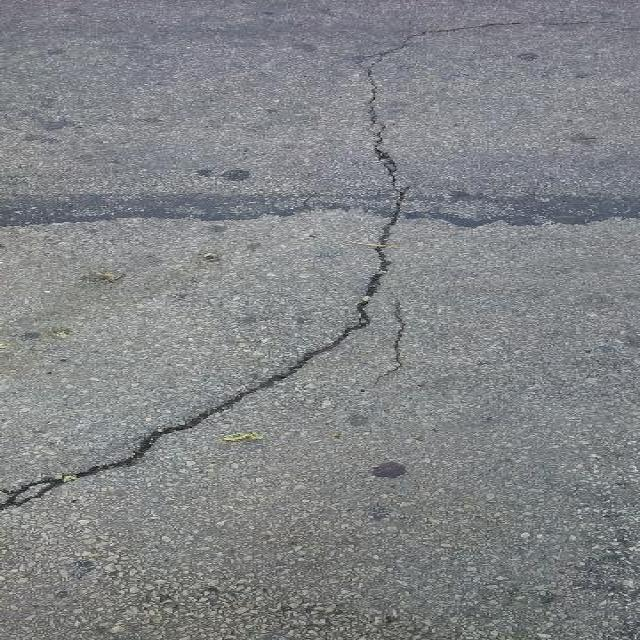Crack: (1, 7, 622, 513)
